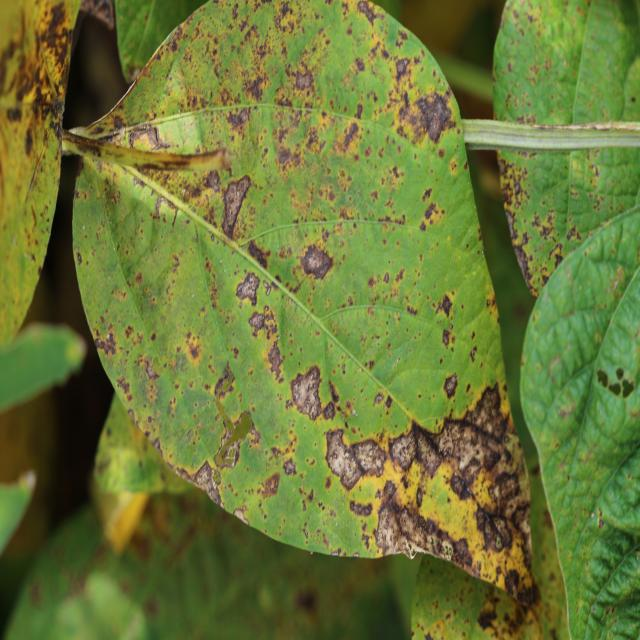Bacterial_Blight: (428, 390, 525, 509), (372, 483, 471, 567), (215, 164, 255, 246), (410, 90, 455, 144), (287, 364, 329, 421), (326, 430, 365, 490), (191, 459, 226, 508), (480, 507, 512, 556), (389, 430, 418, 473), (300, 244, 333, 281), (127, 124, 171, 151), (235, 271, 261, 306), (214, 363, 235, 401), (267, 340, 286, 380), (261, 471, 281, 498), (434, 293, 454, 319), (295, 69, 314, 91), (144, 359, 162, 382), (443, 373, 458, 398), (394, 57, 410, 76)
Soybean: (62, 1, 540, 638)
